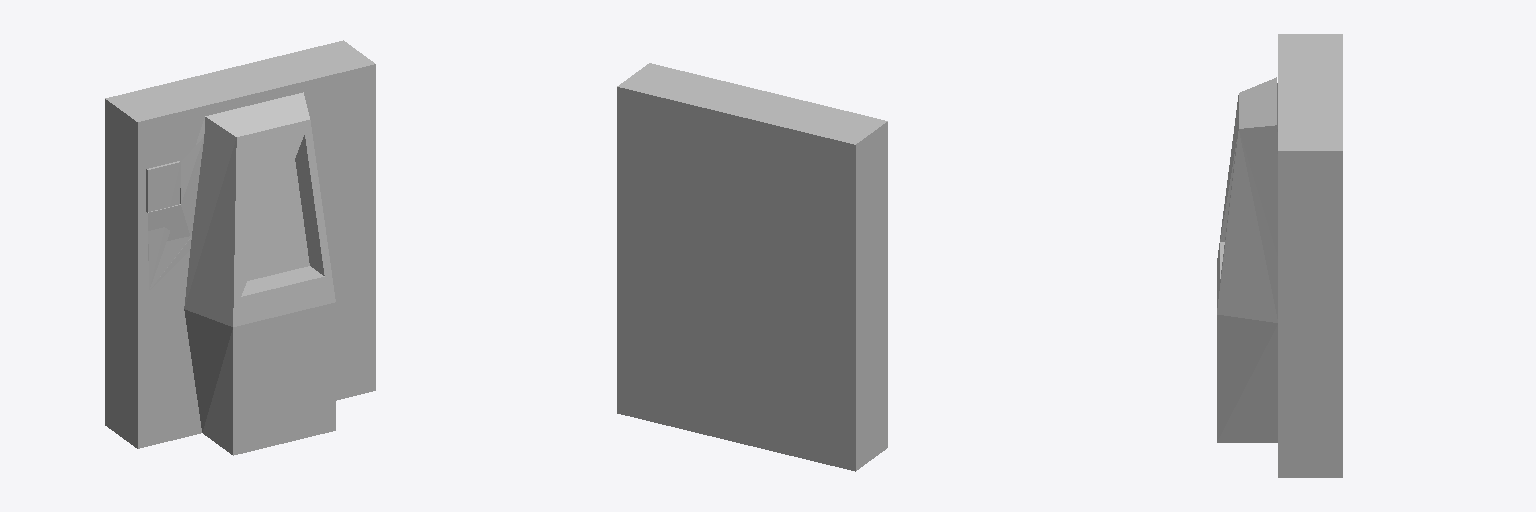
The model's file is CryoPodModel.obj.
The picture shows the model from 3 angles: view 1: azimuth 30°, elevation 25°; view 2: azimuth 150°, elevation 25°; view 3: azimuth 270°, elevation 25°; orthographic projection.
Visible parts, largest first — view 1: polySurface37 group11; view 2: polySurface37 group11; view 3: polySurface37 group11.
Part boxes in pixels (x1,y1,x2,y2): polySurface37 group11: (105,40,375,455); polySurface37 group11: (617,63,887,471); polySurface37 group11: (1217,34,1342,477).
Bounding box in the file's own units: 4.1 × 5.37 × 1.89.